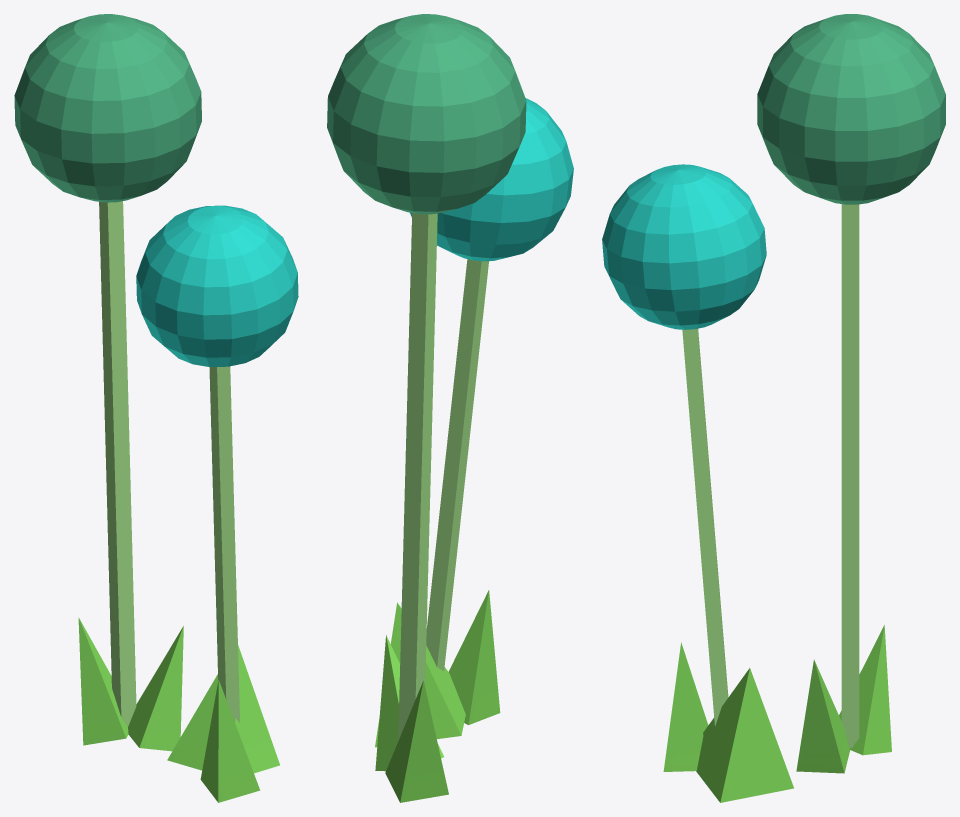
File: 2fleursbleu.FBX
The picture shows the model from 3 angles, left to right: view 1: azimuth 30°, elevation 25°; view 2: azimuth 150°, elevation 25°; view 3: azimuth 270°, elevation 25°; orthographic projection. The views are drawn at different scales.
Parts seen in each view (by area): view 1: GroupePlante02; view 2: GroupePlante02; view 3: GroupePlante02.
Part boxes in pixels (x1,y1,x2,y2): GroupePlante02: [14, 14, 298, 802]; GroupePlante02: [327, 14, 573, 802]; GroupePlante02: [602, 14, 945, 802].
Bounding box in the file's own units: 12.22 × 45.06 × 19.29.
